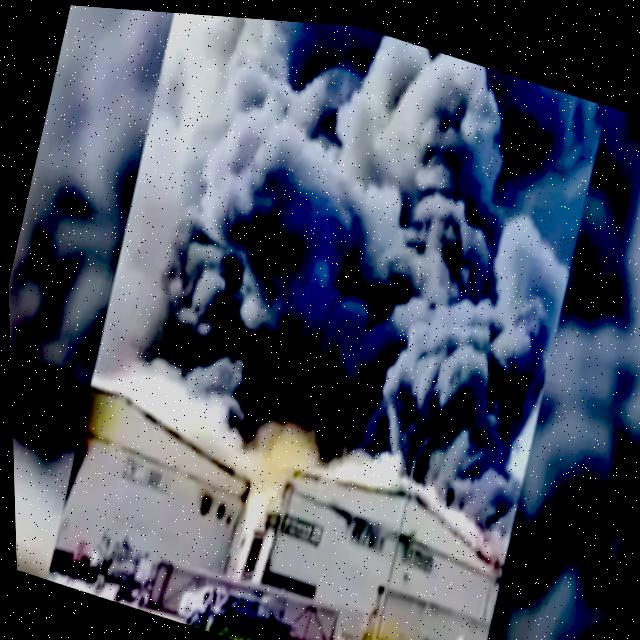Smoke: (82, 5, 614, 514)
